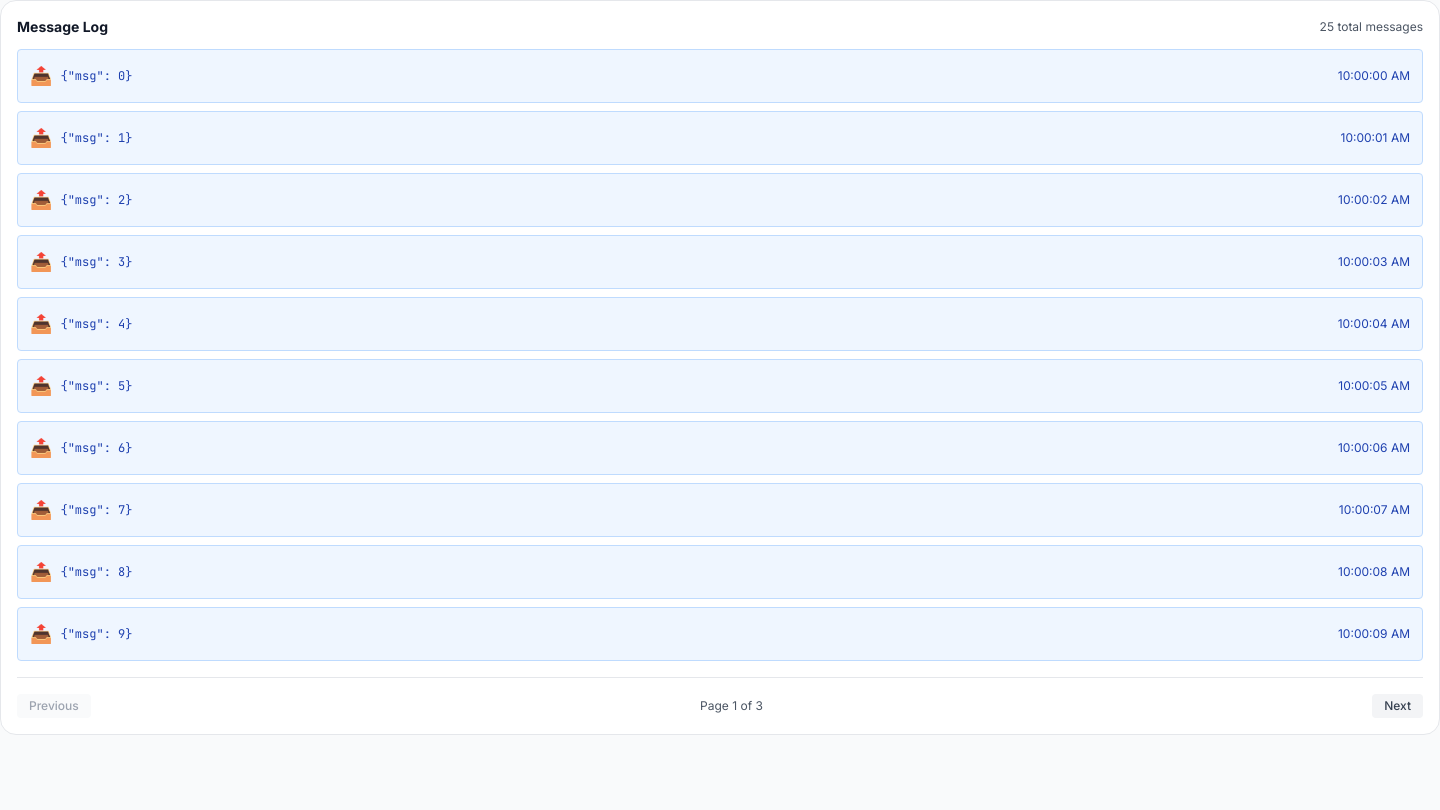
Test: MessageLog Component › Pagination › should disable Next button on last page
The image size is (1440, 810).
Note: Navigate to last page
Click the button "Next" at (1398, 706), box [1372, 694, 1423, 718]
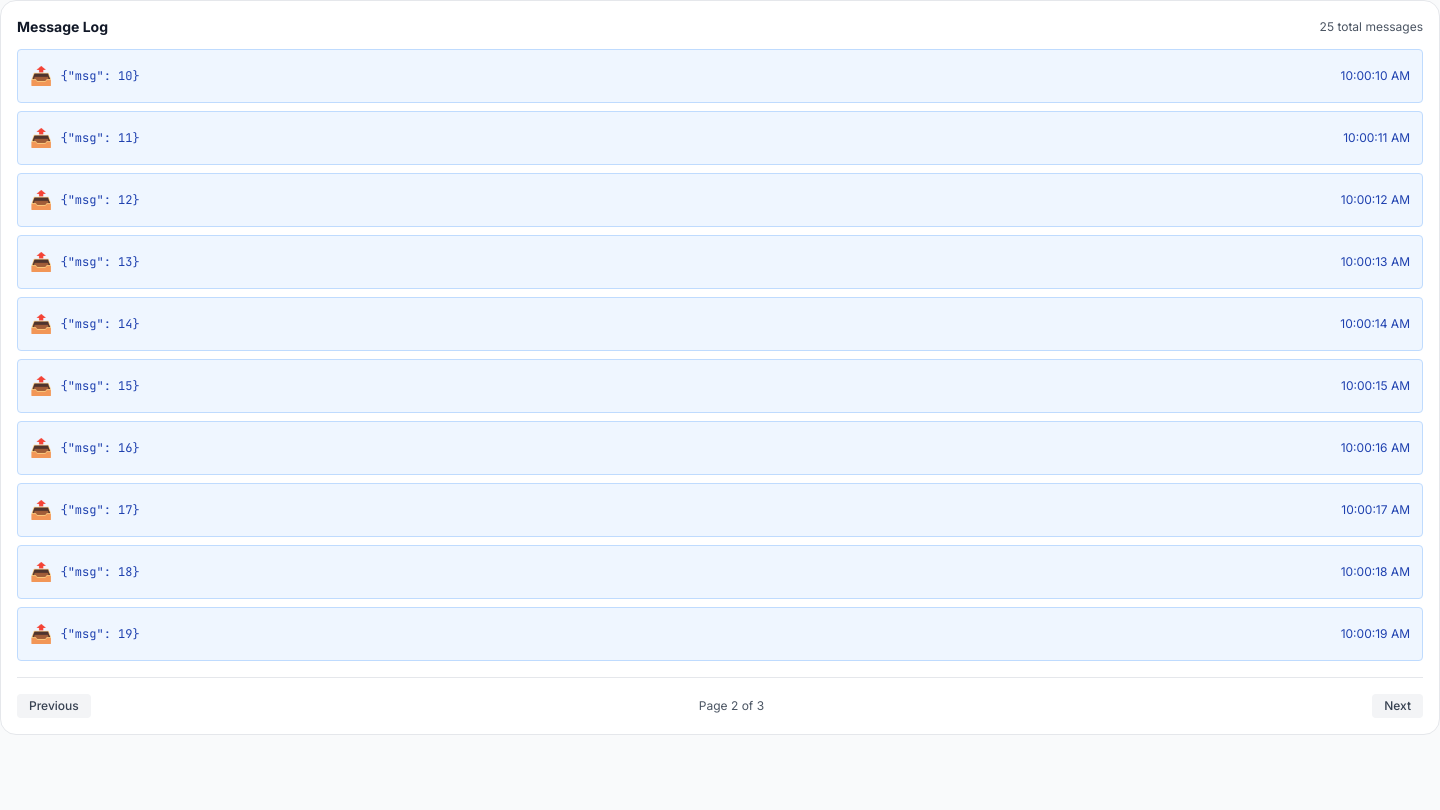
Click the button "Next" at (1398, 706), box [1372, 694, 1423, 718]
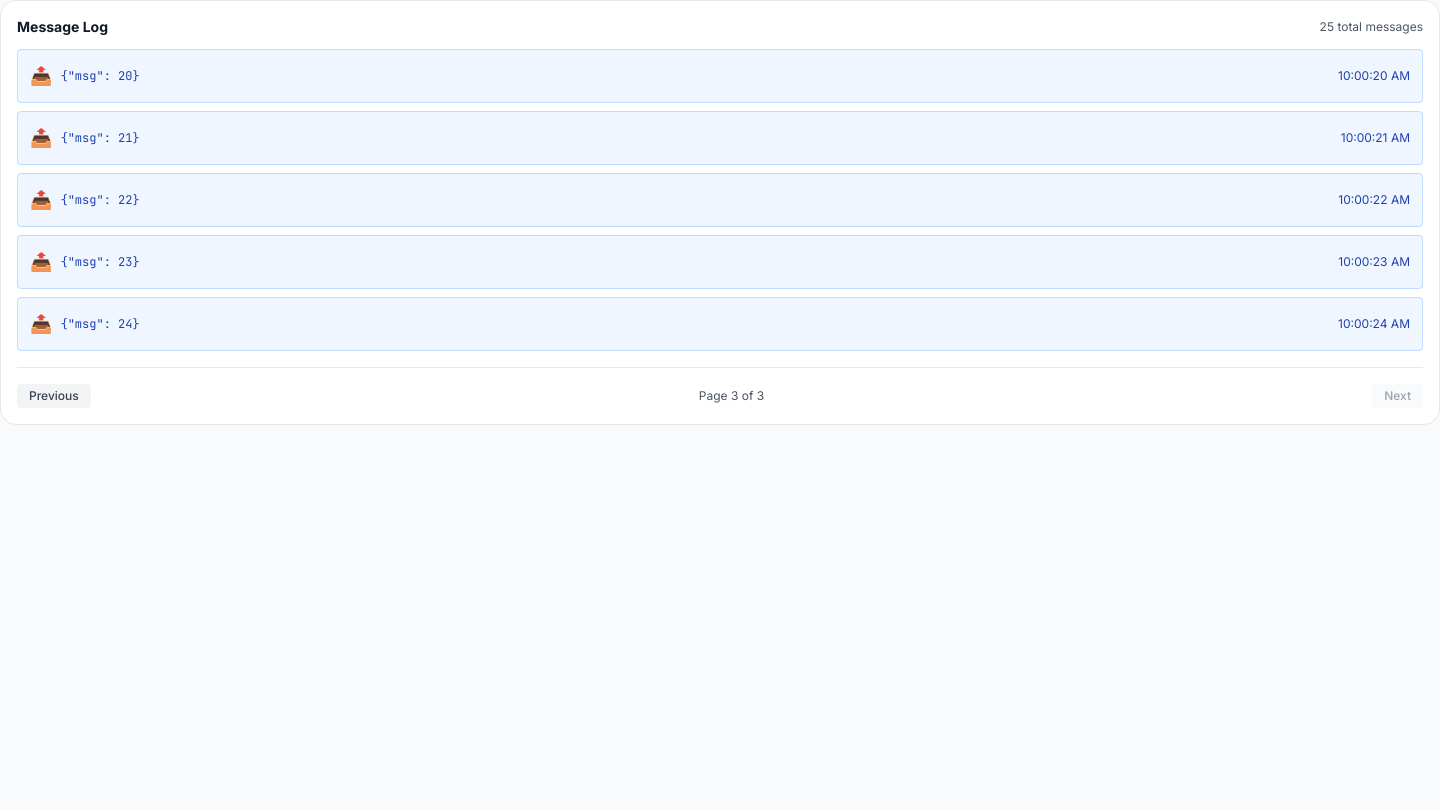
Check: the button "Next" is disabled, box [1372, 384, 1423, 408]
